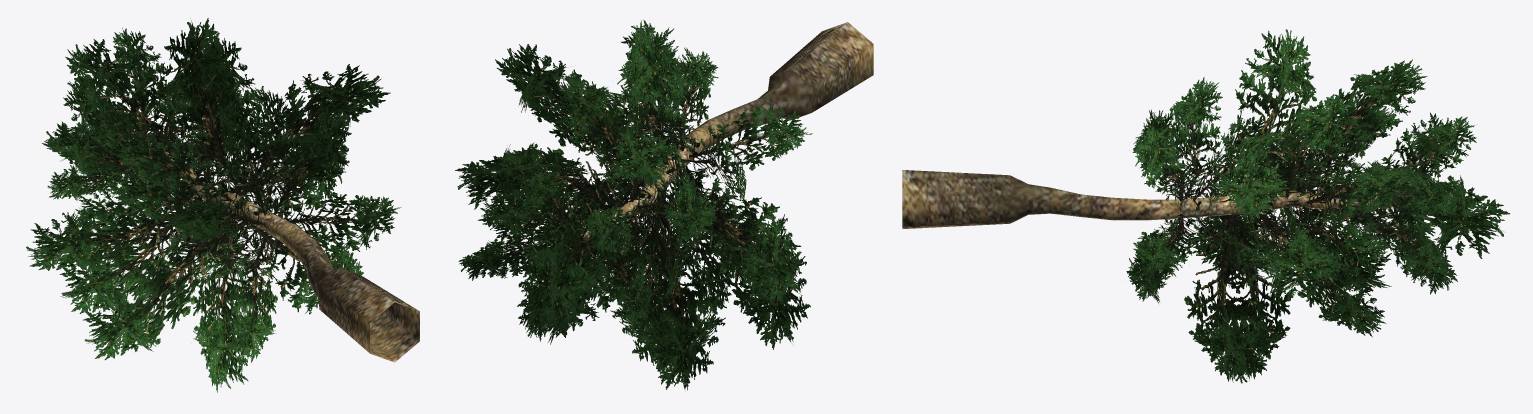
The model's file is aleppo_pine_1.glb.
The picture shows the model from 3 angles, left to right: view 1: azimuth 30°, elevation 25°; view 2: azimuth 150°, elevation 25°; view 3: azimuth 270°, elevation 25°; orthographic projection. The views are drawn at different scales.
Bounding box in the file's own units: 15.11 × 15.7 × 24.12.
Materials: 1 (1 with a texture image).
